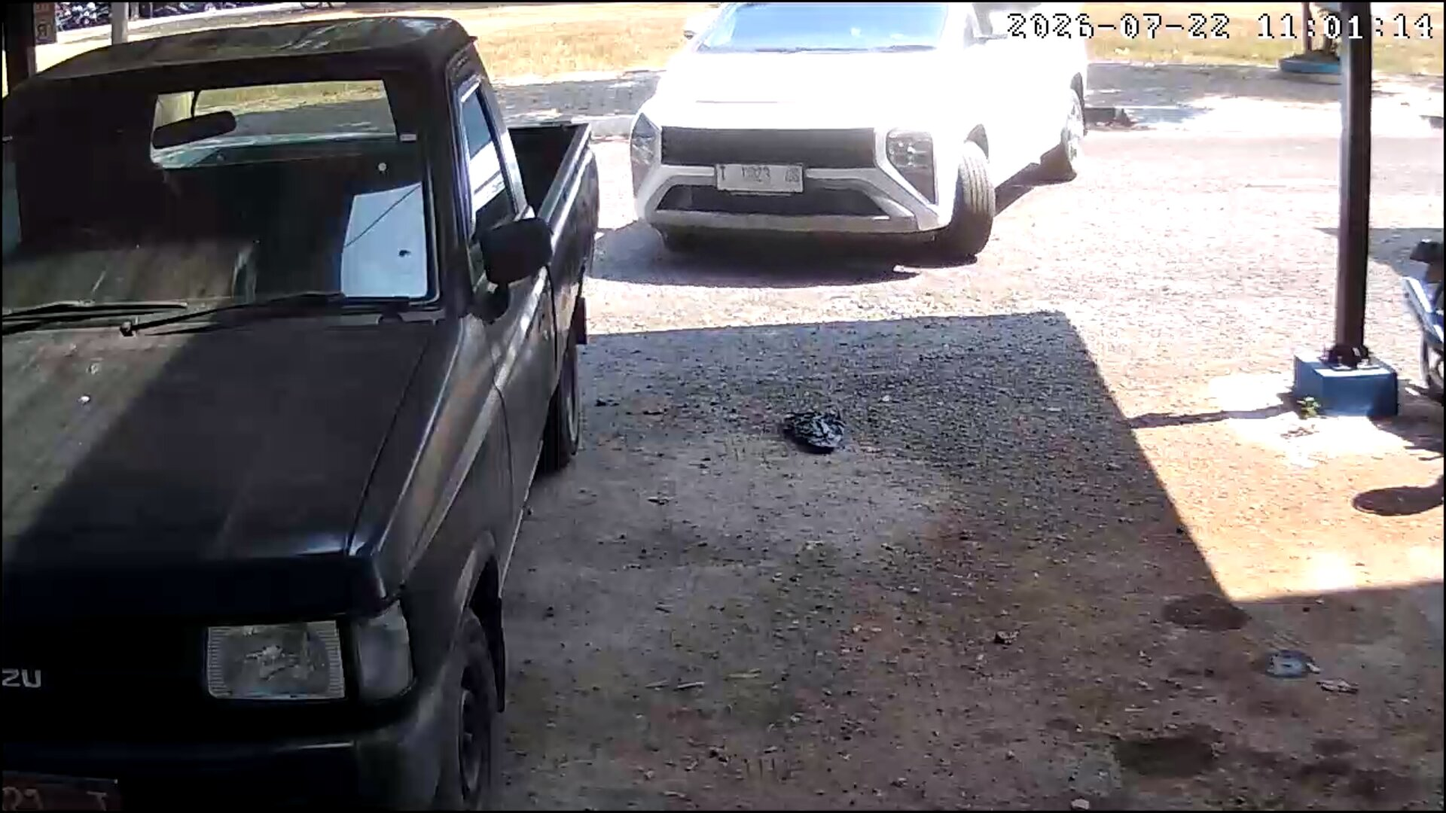plat nomor: (715, 163, 804, 193)
